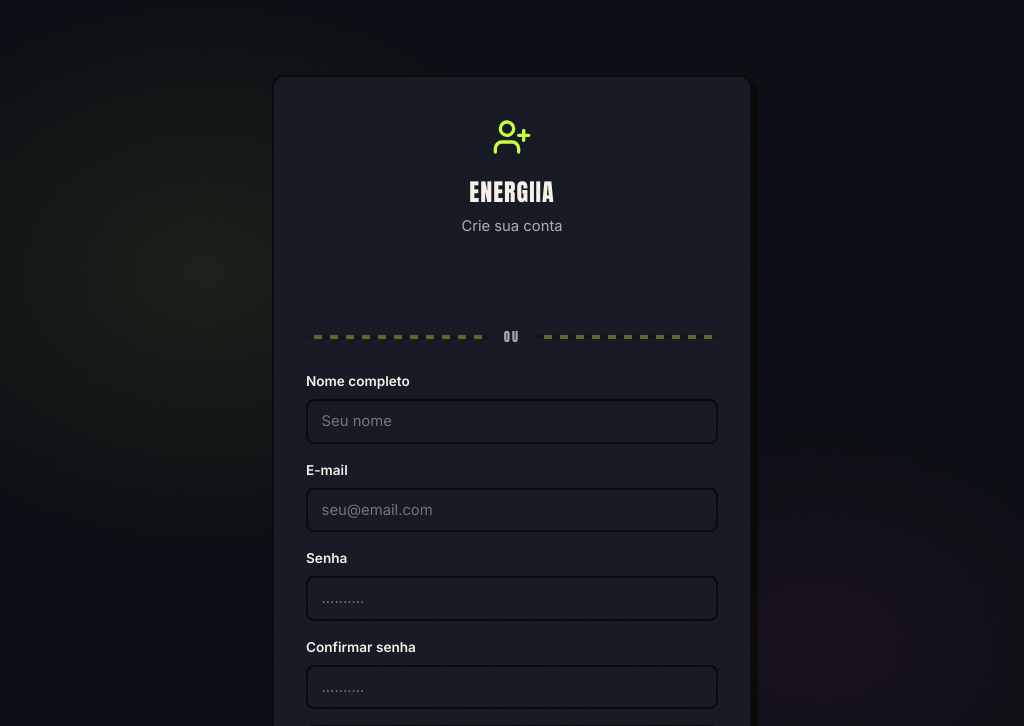
Register › disables submit button while loading
In the field labelled "Nome completo": (512, 422) x1=306 y1=399 x2=718 y2=444, type "Test User"
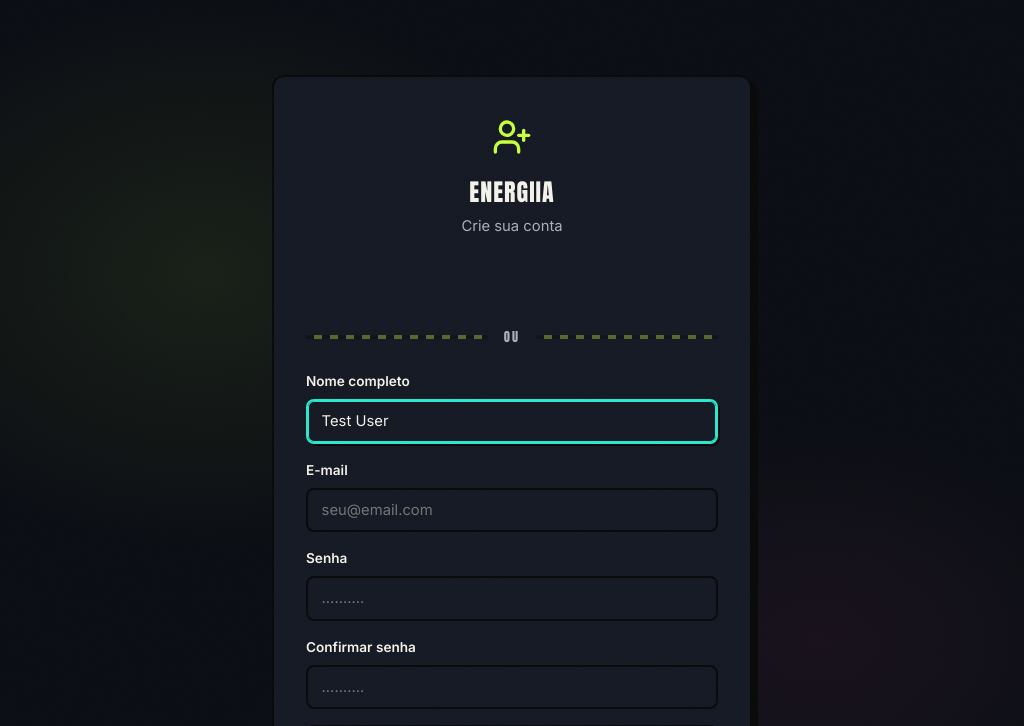
In the field labelled "E-mail": (512, 510) x1=306 y1=488 x2=718 y2=532, type "test@test.com"
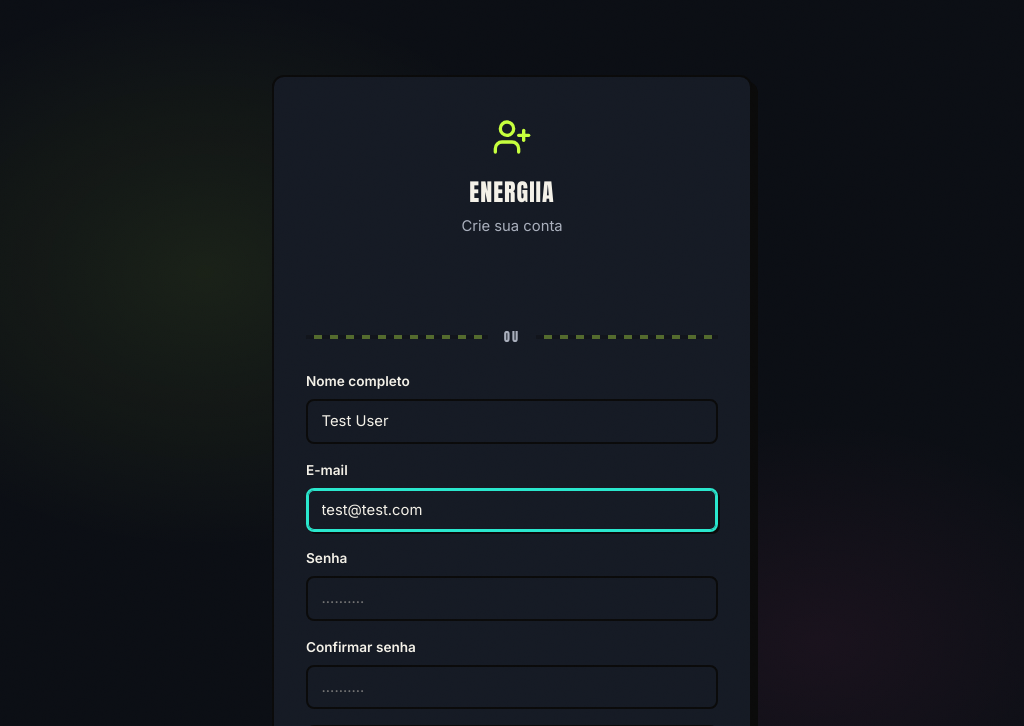
In the password field labelled "Senha": (512, 598) x1=306 y1=576 x2=718 y2=621, type "password123"
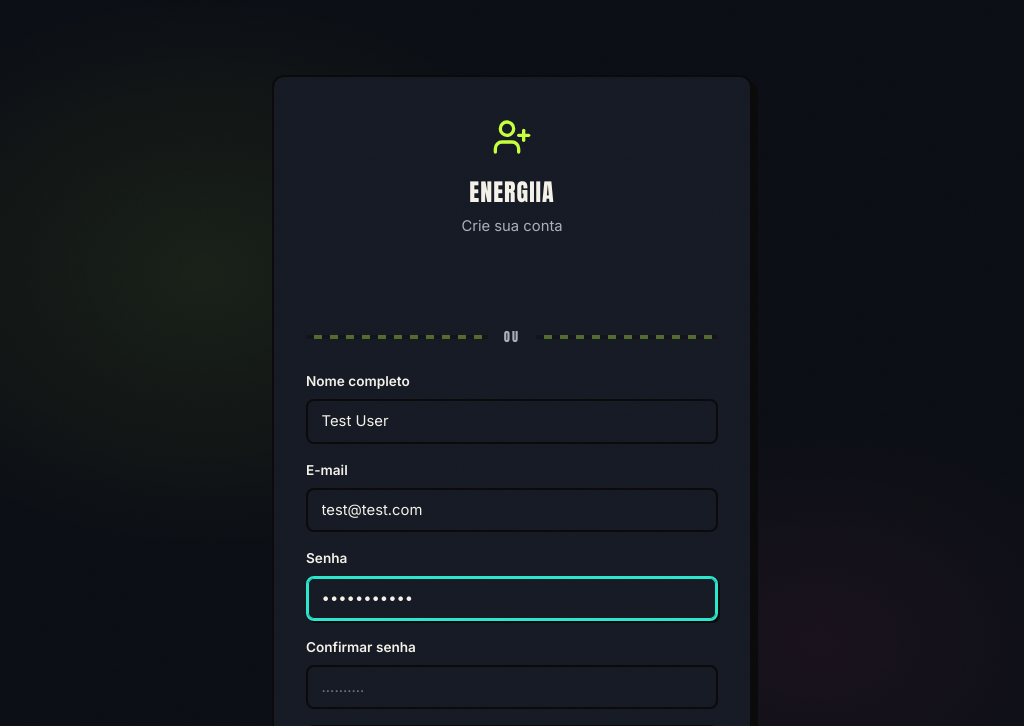
In the password field labelled "Confirmar senha": (512, 687) x1=306 y1=665 x2=718 y2=709, type "password123"
(page scrolled)
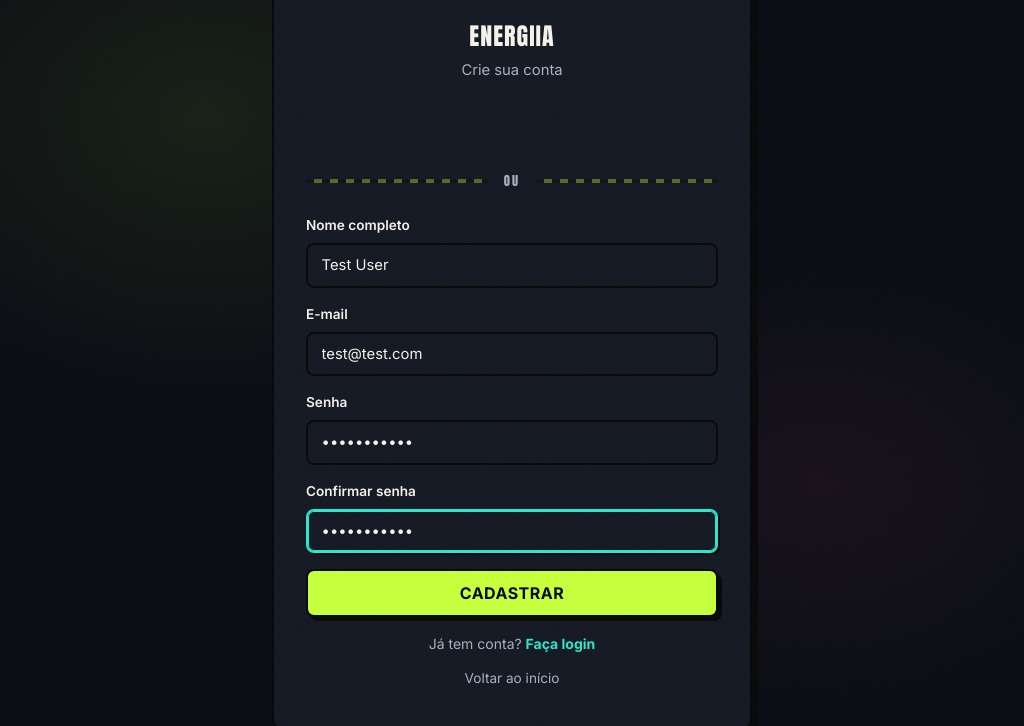
Click the button "Cadastrar": (512, 593) x1=306 y1=569 x2=718 y2=617
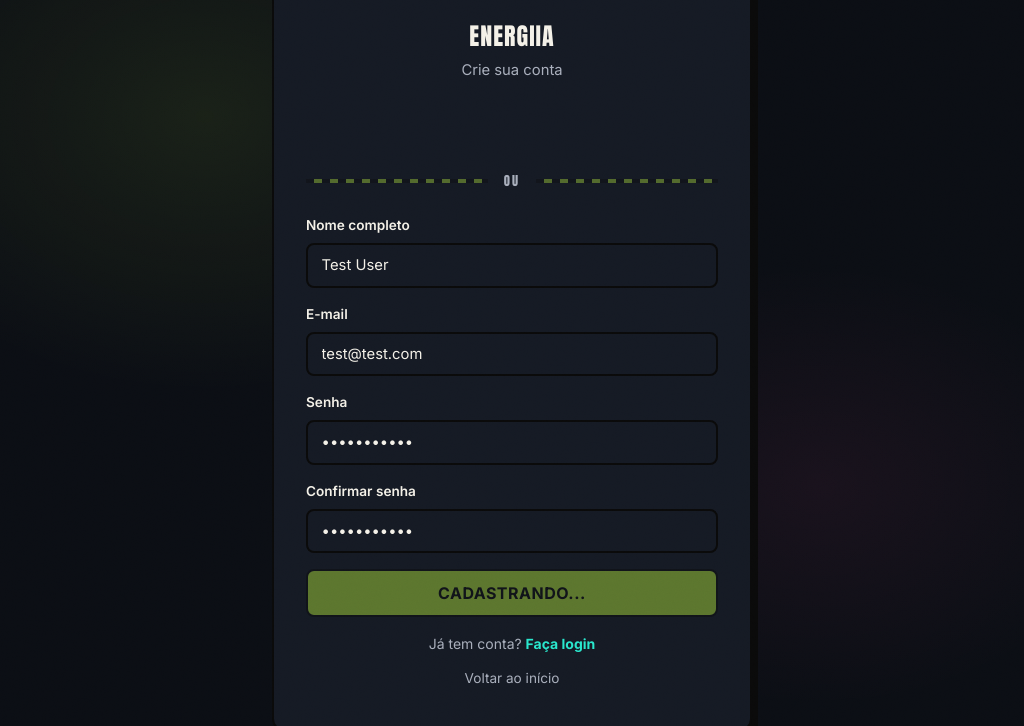
expect the button "Cadastrando..." is disabled: met, box x1=306 y1=569 x2=718 y2=617
